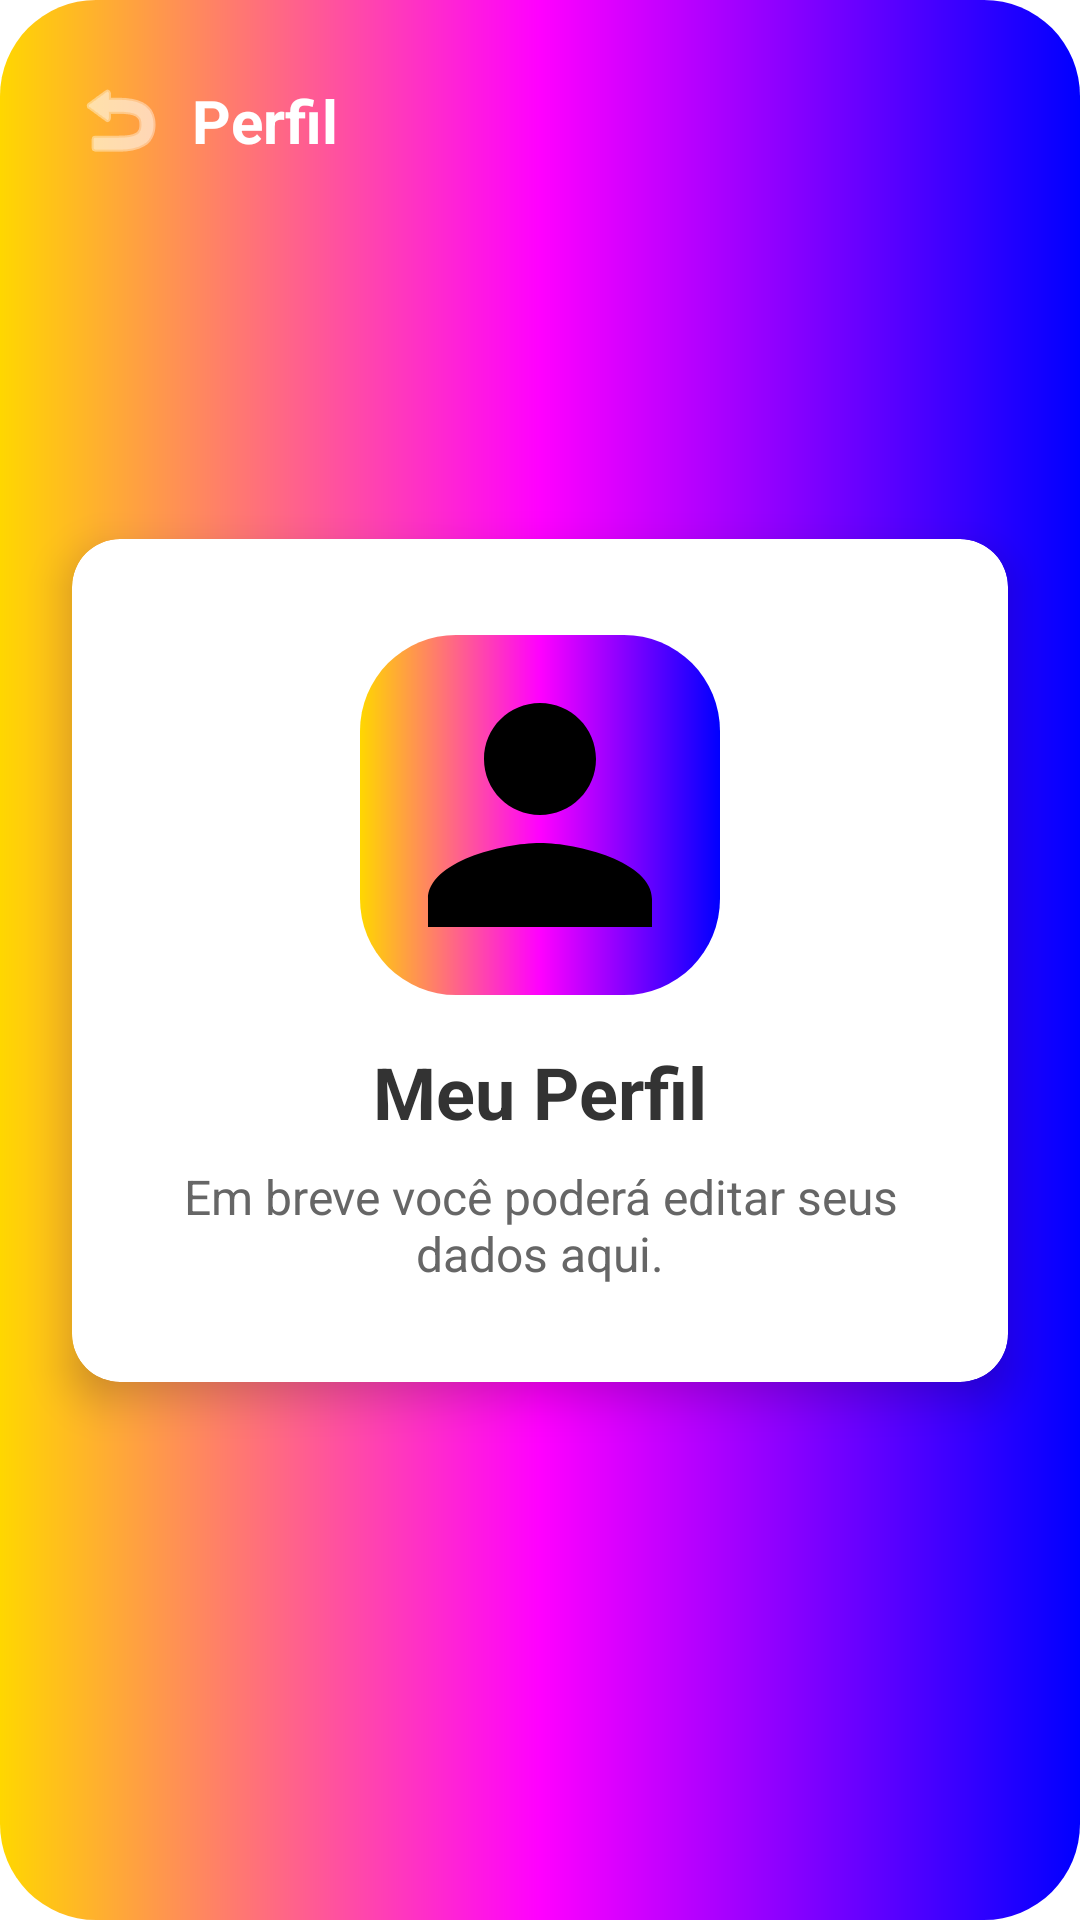

Named icons in this screenshot (1080px x 1920px) and their bounding boxes, (x1, y1, x2, y2):
person: (360, 635, 720, 995)
